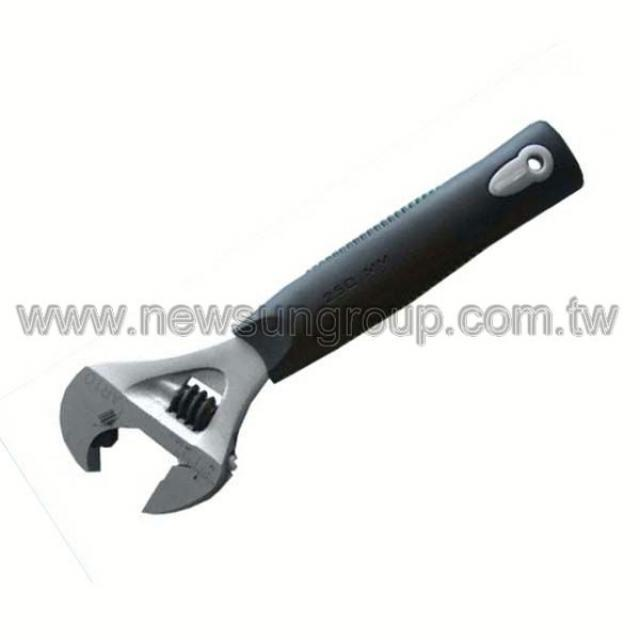wrench: (57, 114, 595, 508)
